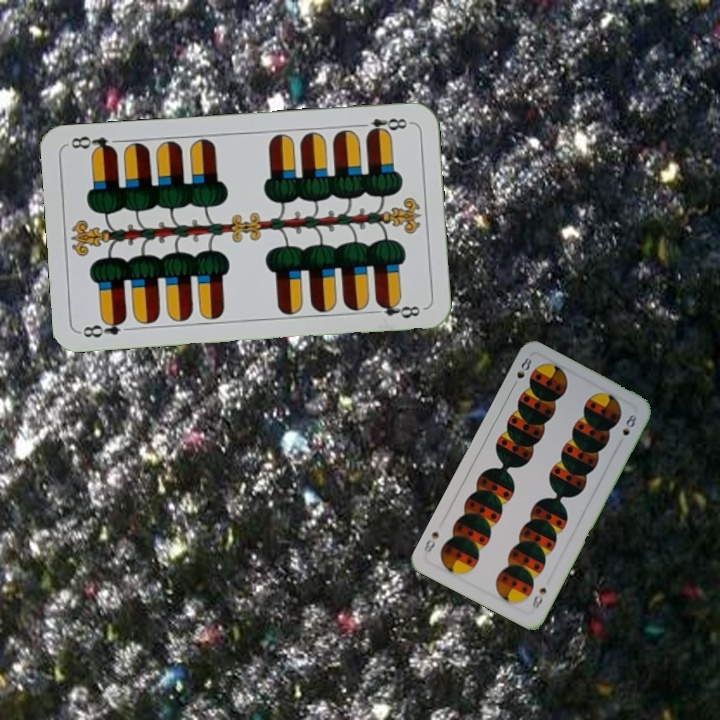E8: (354, 114, 413, 138), (77, 314, 129, 341)
S8: (508, 353, 534, 391), (528, 583, 549, 614)
